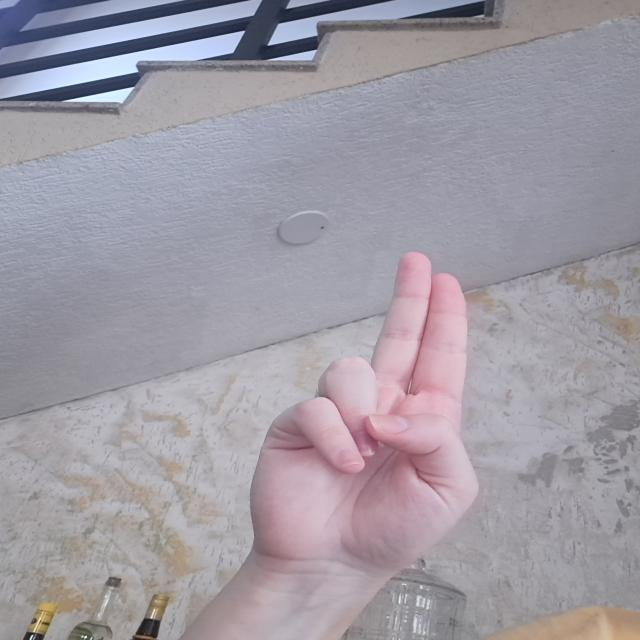U: (248, 232, 502, 572)
